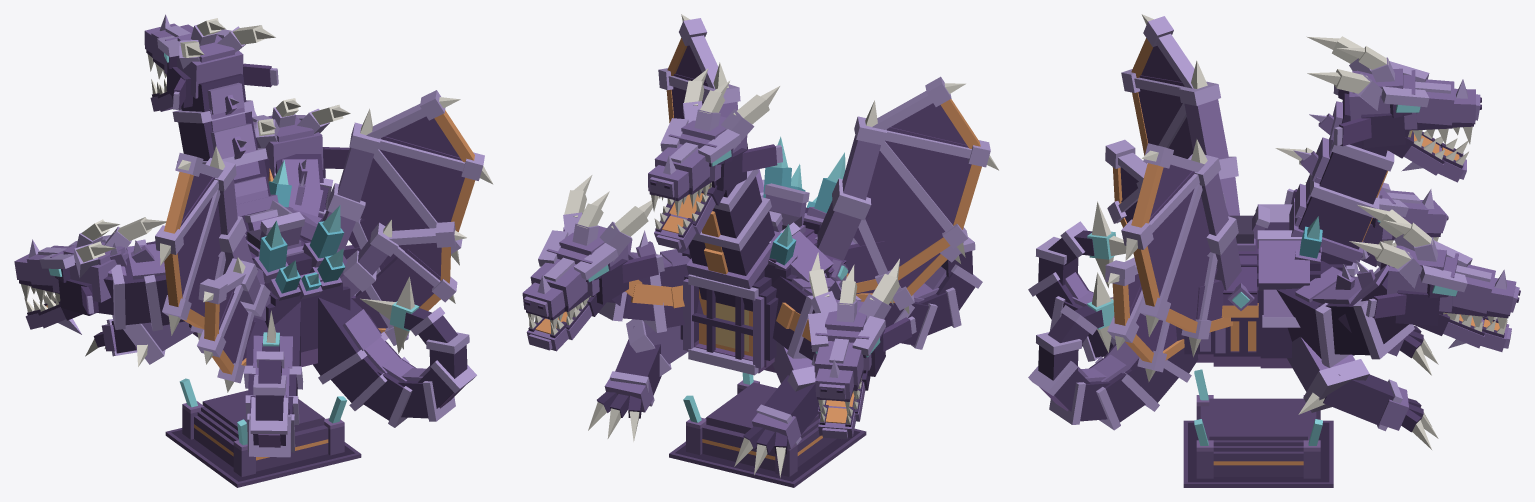
Rendered from SeahorseRocker11.glb.
The picture shows the model from 3 angles, left to right: view 1: azimuth 30°, elevation 25°; view 2: azimuth 150°, elevation 25°; view 3: azimuth 270°, elevation 25°; orthographic projection. The views are drawn at different scales.
Parts seen in each view (by area): view 1: WingR, Body, WingL, Stand, Wing2R, Neck, Head, HeadL, TR1, Wing2L, NeckL, HeadR (+17 smaller); view 2: WingL, Body, HeadR, Head, HeadL, Stand, Neck, ArmR, ArmL, WingR, NeckR, NeckL (+14 smaller); view 3: WingR, Stand, Body, Head, HeadR, WingL, Neck, NeckR, ArmR, TR2, Wing2R, HeadL (+15 smaller).
Part boxes in pixels (x1,y1,x2,y2): WingR: (322, 90, 493, 274); Body: (189, 181, 359, 366); WingL: (155, 146, 253, 339); Stand: (165, 390, 361, 487); Wing2R: (340, 219, 466, 349); Neck: (172, 73, 278, 220); Head: (144, 14, 278, 109); HeadL: (14, 217, 166, 315); TR1: (313, 296, 409, 410); Wing2L: (197, 257, 270, 392); NeckL: (97, 239, 184, 331); HeadR: (251, 98, 350, 181); WingL: (817, 76, 998, 304); Body: (677, 167, 855, 375); HeadR: (522, 175, 664, 329); Head: (648, 68, 782, 217); HeadL: (808, 252, 916, 415); Stand: (669, 380, 866, 487); Neck: (686, 143, 780, 311); ArmR: (588, 319, 688, 441); ArmL: (734, 341, 818, 477); WingR: (658, 14, 740, 118); NeckR: (598, 230, 703, 332); NeckL: (771, 274, 861, 365); WingR: (1121, 139, 1241, 357); Stand: (1183, 395, 1333, 487); Body: (1184, 193, 1354, 368); Head: (1306, 36, 1481, 147); HeadR: (1349, 205, 1520, 328); WingL: (1121, 14, 1239, 215); Neck: (1289, 93, 1394, 265); NeckR: (1276, 259, 1414, 367); ArmR: (1287, 336, 1438, 449); TR2: (1049, 354, 1145, 430); Wing2R: (1105, 257, 1177, 382); HeadL: (1275, 147, 1448, 255).
Bounding box in the file's own units: 37.61 × 42.08 × 46.05.
